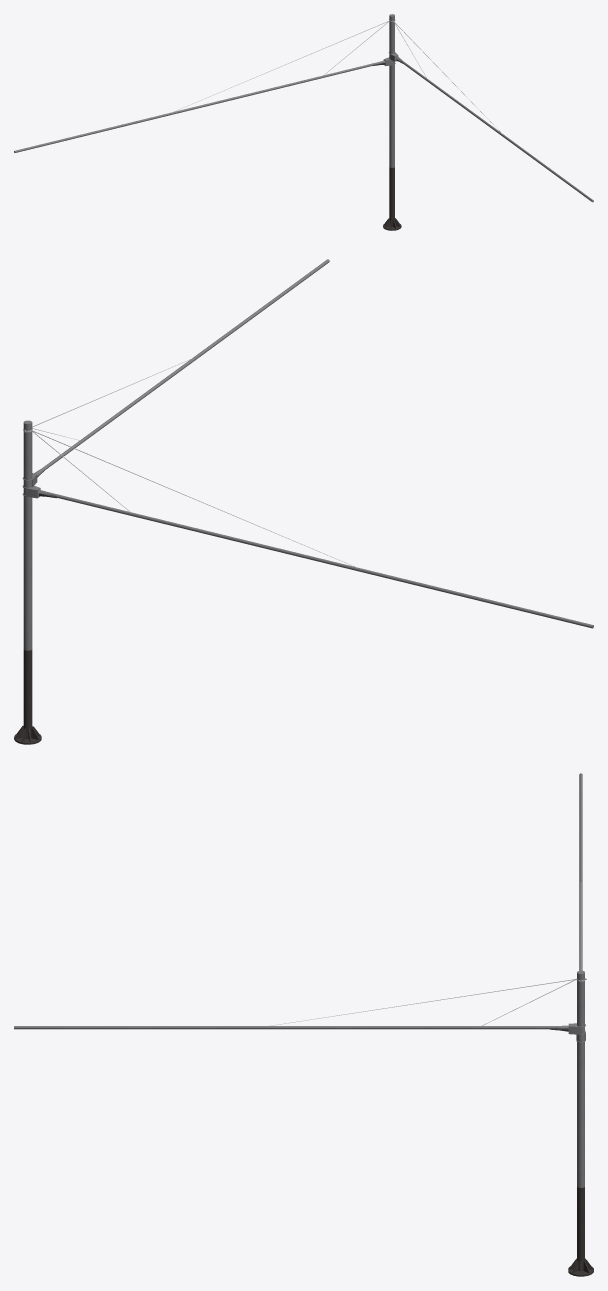
The model's file is RoadTrafficLight_03.fbx.
The picture shows the model from 3 angles, top to bottom: view 1: azimuth 30°, elevation 25°; view 2: azimuth 150°, elevation 25°; view 3: azimuth 270°, elevation 25°; orthographic projection. The views are drawn at different scales.
Visible parts, largest first — view 1: RoadTrafficLight_03; view 2: RoadTrafficLight_03; view 3: RoadTrafficLight_03.
Part boxes in pixels (x1=…): RoadTrafficLight_03: x1=14, y1=14, x2=593, y2=230; RoadTrafficLight_03: x1=14, y1=259, x2=593, y2=744; RoadTrafficLight_03: x1=14, y1=773, x2=593, y2=1276.
Size of the model in its own units: 1638 by 859 by 1511.
Materials: 2 (2 with a texture image).
